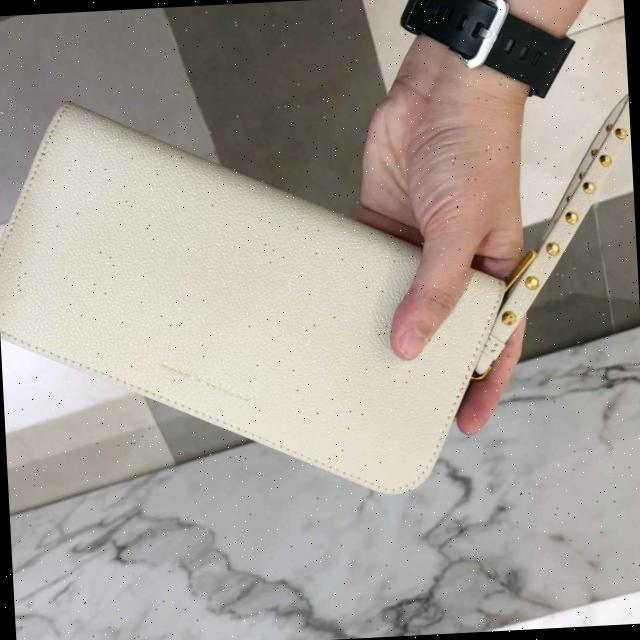Handbag: (0, 77, 519, 513)
